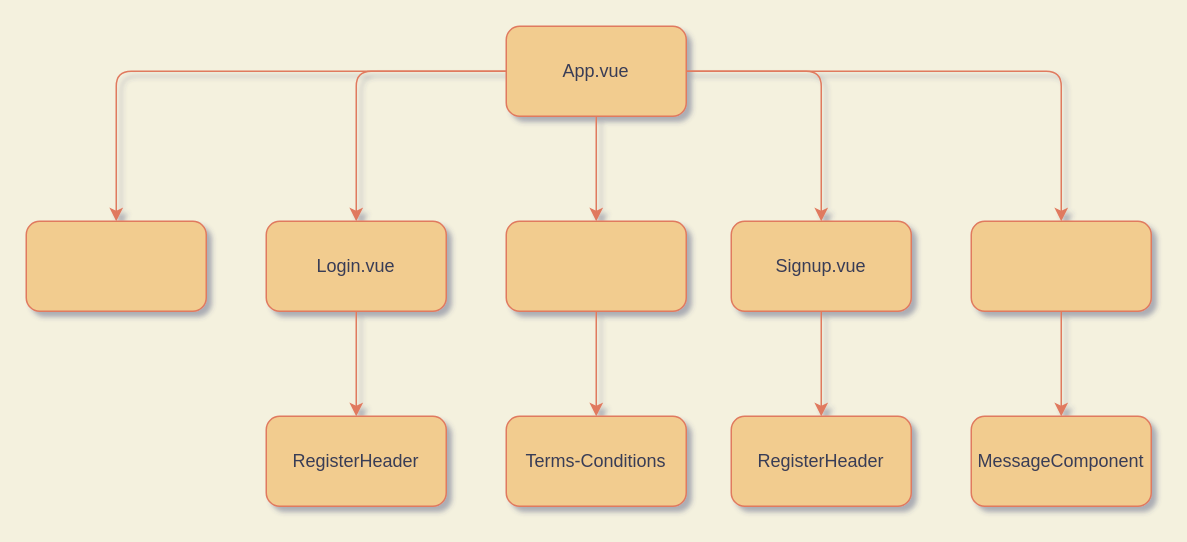
Image size: 1187x542. Some labels were removed from this diagram. The centre of each missing label's shape, as x and y in pixels:
"Chat.vue" belongs at (1060,265).
"Home.vue" belongs at (115,265).
"Terms.vue" belongs at (595,265).
